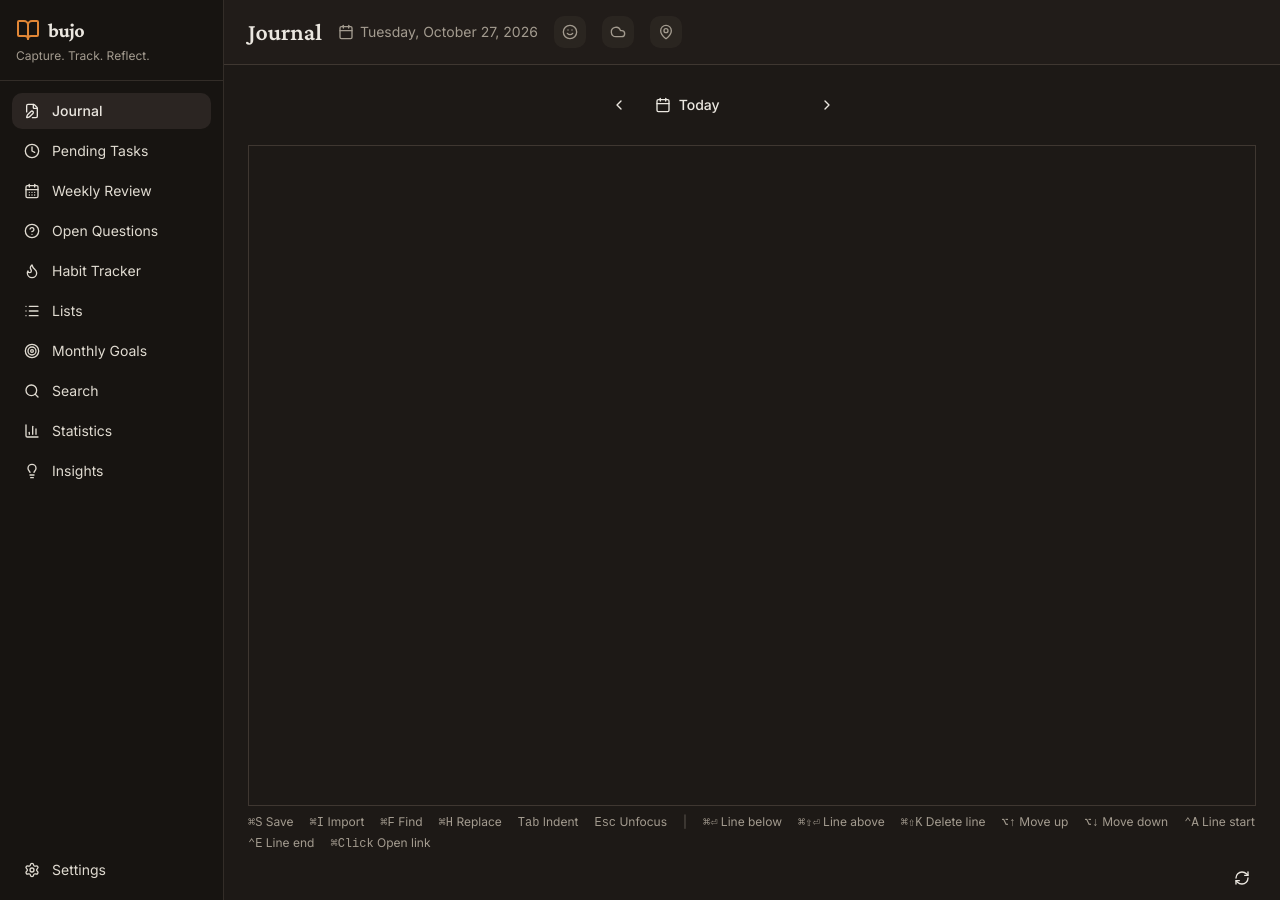
App - Navigation History › manual navigation to today clears history › clears history when manually navigating to today view via sidebar
# Navigate to weekly review (pushes today to history)
Click the button "Weekly Review": coordinates (112, 191) left=12, top=173, right=211, bottom=209
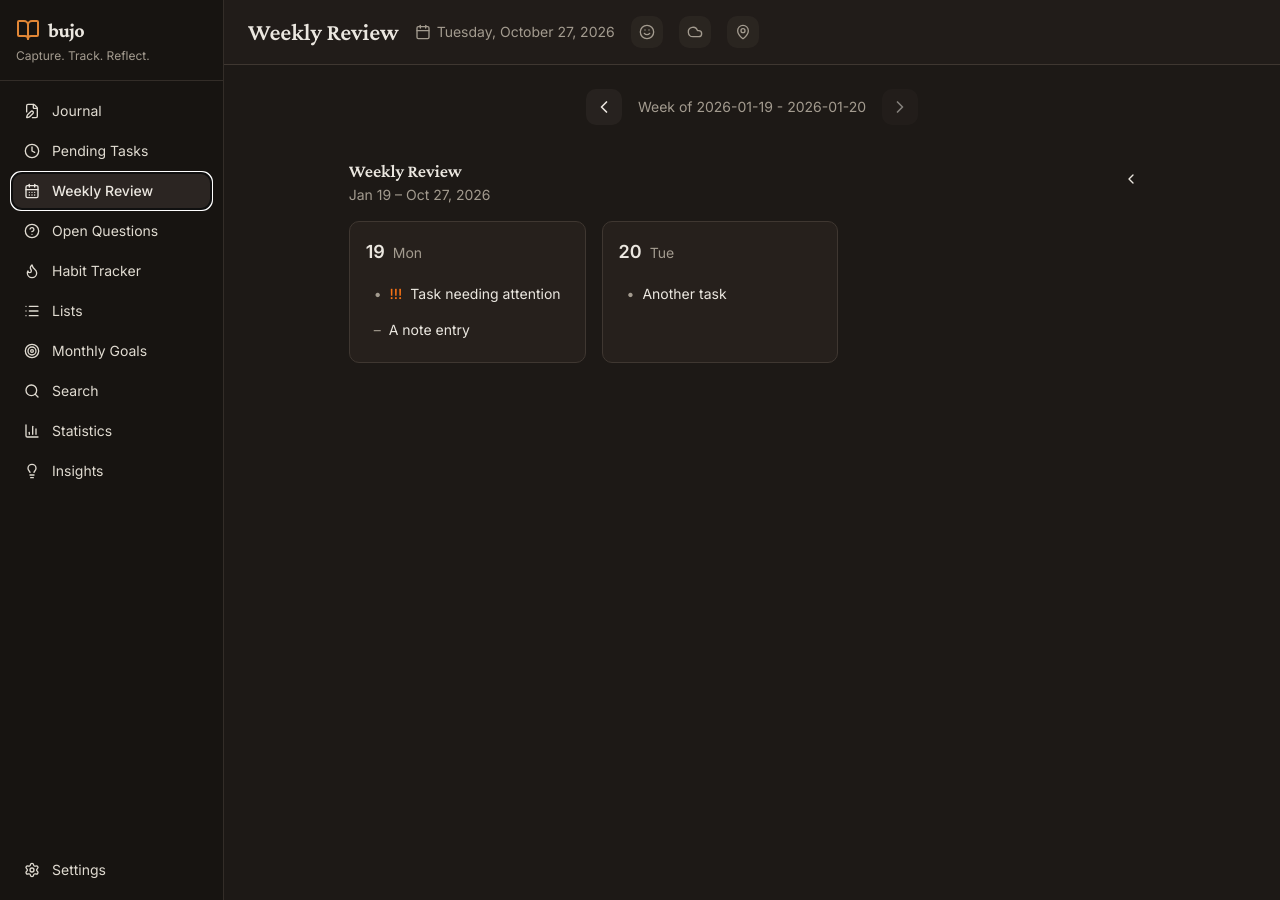
Check: the text "Jan 19 – Oct 27, 2026" is shown, box left=349, top=186, right=490, bottom=203
# Manually navigate to today via sidebar
Click the button "Journal": coordinates (112, 111) left=12, top=93, right=211, bottom=129
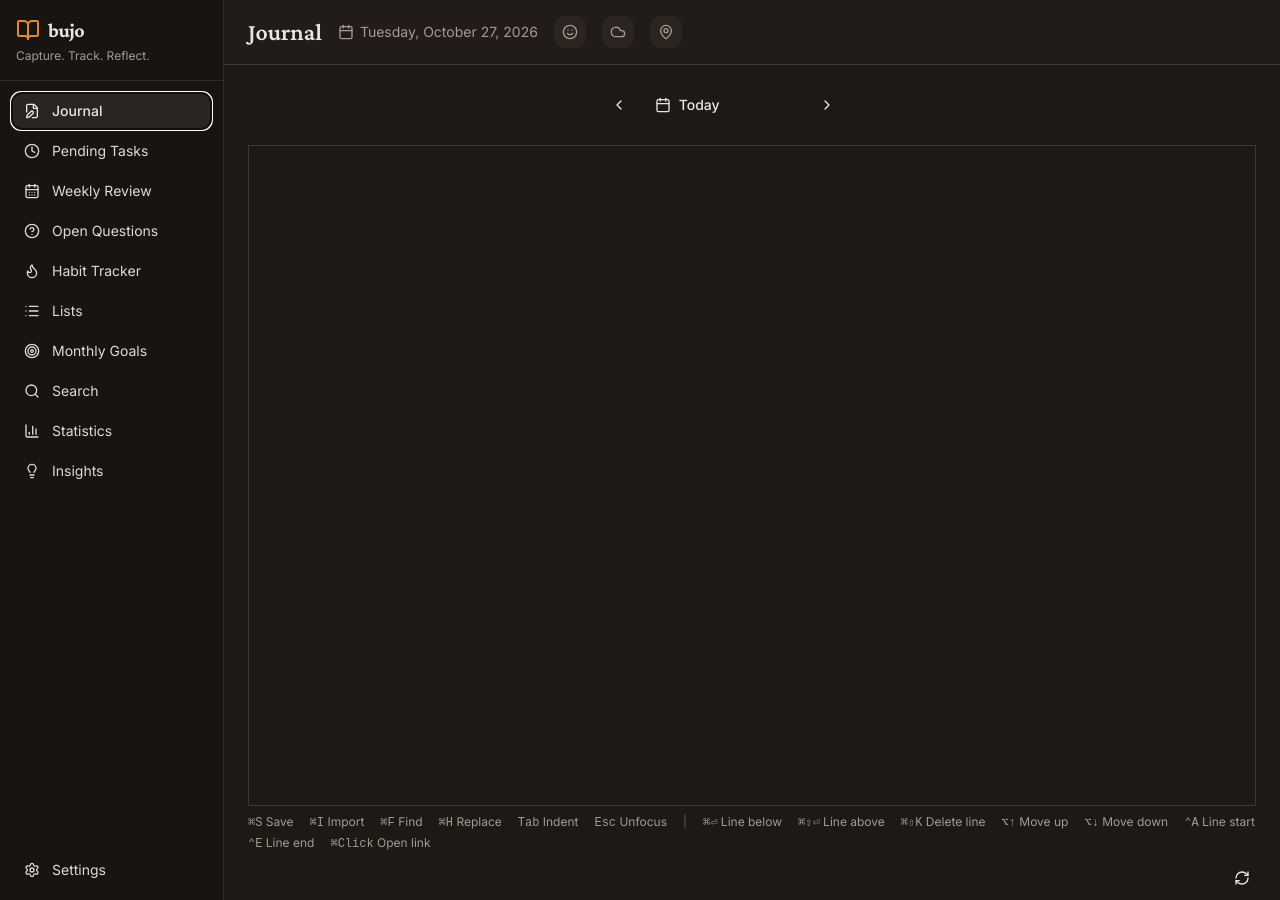
Check: the field is shown, box left=265, top=146, right=1255, bottom=805
